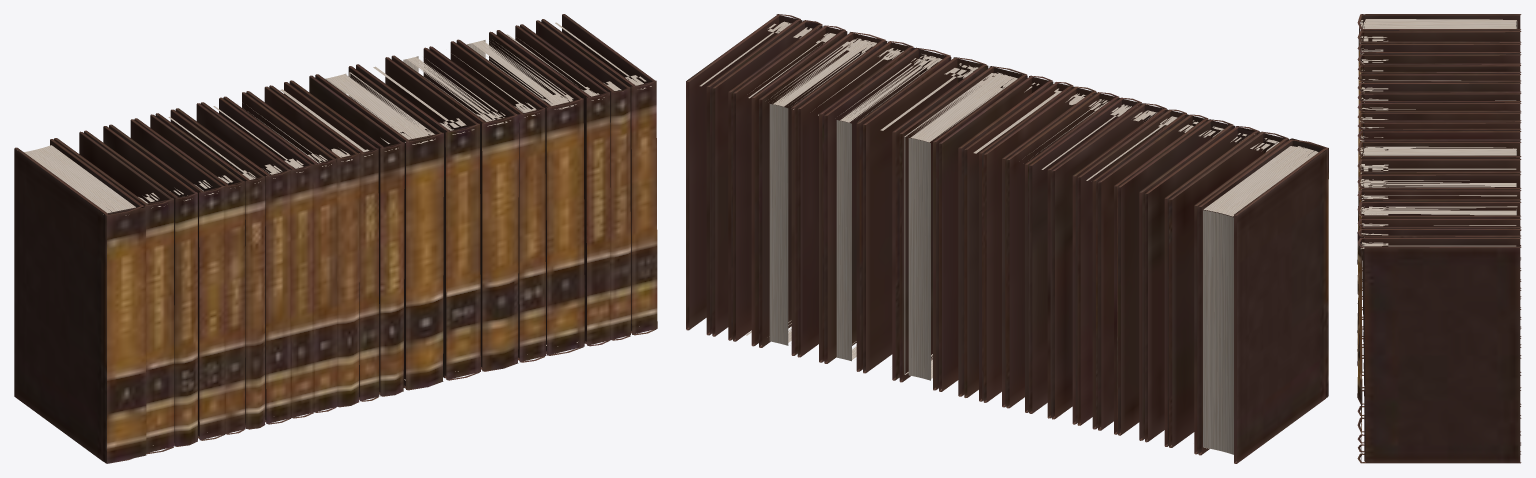
Rendered from ph_book_encyclopedia_set_01.glb.
3 renders of one model, left to right at view 1: azimuth 30°, elevation 25°; view 2: azimuth 150°, elevation 25°; view 3: azimuth 270°, elevation 25°, orthographic. The views are drawn at different scales.
Parts seen in each view (by area): view 1: book_encyclopedia_set_01_book01; view 2: book_encyclopedia_set_01_book01; view 3: book_encyclopedia_set_01_book01.
Part boxes in pixels (left/top/right/bottom): book_encyclopedia_set_01_book01: left=14, top=14, right=657, bottom=463; book_encyclopedia_set_01_book01: left=686, top=14, right=1328, bottom=463; book_encyclopedia_set_01_book01: left=1357, top=14, right=1521, bottom=463.
Size of the model in its own units: 0.5525 by 0.2374 by 0.1637.
Materials: 2 (2 with a texture image).
